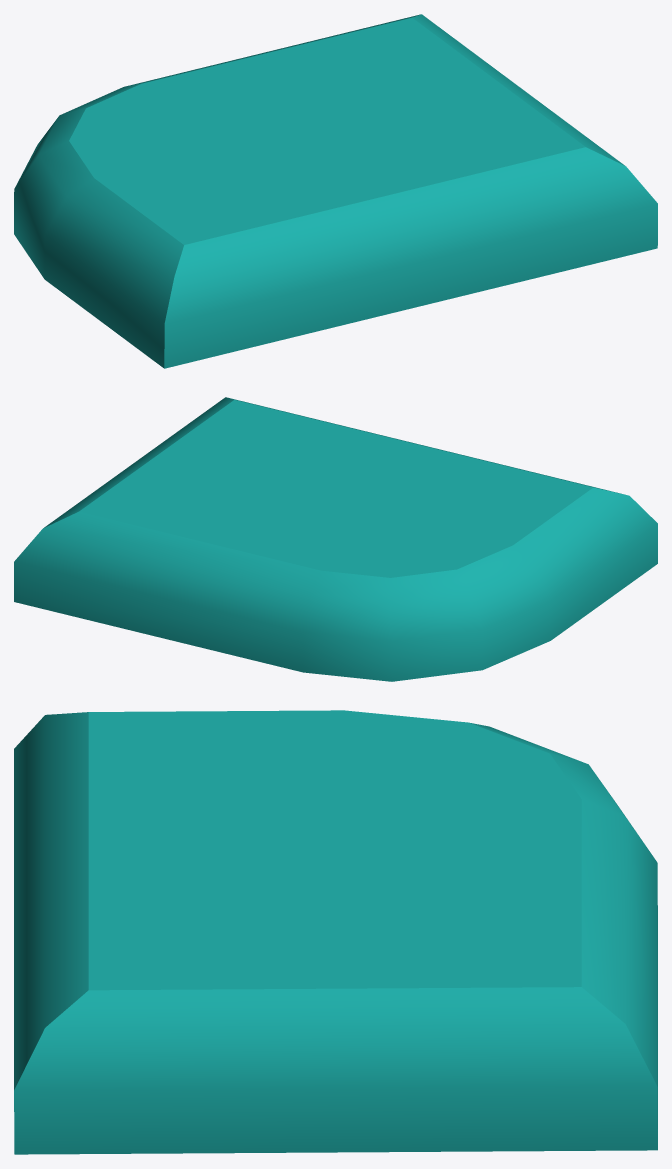
Rendered from SM_ConfiguratorCenterButton.fbx.
3 renders of one model, top to bottom at view 1: azimuth 30°, elevation 25°; view 2: azimuth 150°, elevation 25°; view 3: azimuth 270°, elevation 25°, orthographic. The views are drawn at different scales.
Parts seen in each view (by area): view 1: ButtonMesh; view 2: ButtonMesh; view 3: ButtonMesh.
Part boxes in pixels (bbox=[...]): ButtonMesh: bbox=[14, 14, 657, 368]; ButtonMesh: bbox=[14, 397, 657, 681]; ButtonMesh: bbox=[14, 710, 657, 1154].
Size of the model in its own units: 0.3594 by 0.0665 by 0.2862.
Materials: 1 (1 with a texture image).
